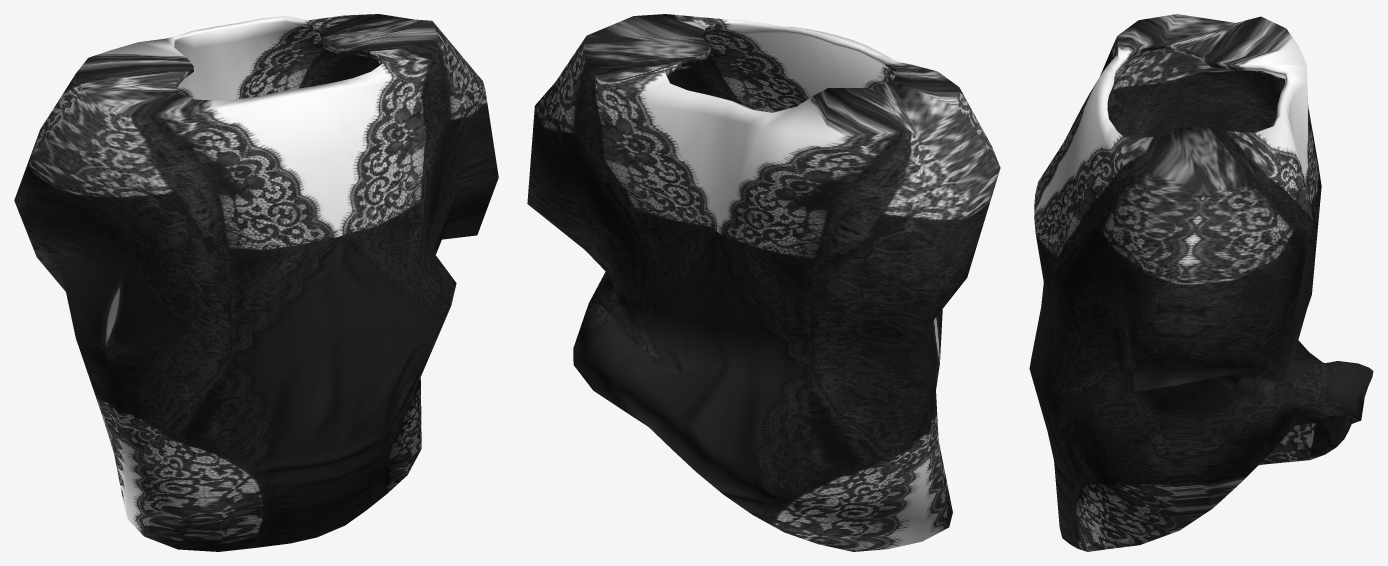
The model's file is 835e033f-5189-4a6b-8067-394250b1fdfa.glb.
The picture shows the model from 3 angles, left to right: view 1: azimuth 30°, elevation 25°; view 2: azimuth 150°, elevation 25°; view 3: azimuth 270°, elevation 25°; orthographic projection. The views are drawn at different scales.
Parts seen in each view (by area): view 1: garment; view 2: garment; view 3: garment.
Part boxes in pixels (bbox=[...]): garment: bbox=[14, 14, 498, 551]; garment: bbox=[527, 14, 1000, 551]; garment: bbox=[1029, 14, 1373, 551].
Size of the model in its own units: 0.552 by 0.5291 by 0.3711.
Materials: 1 (1 with a texture image).
